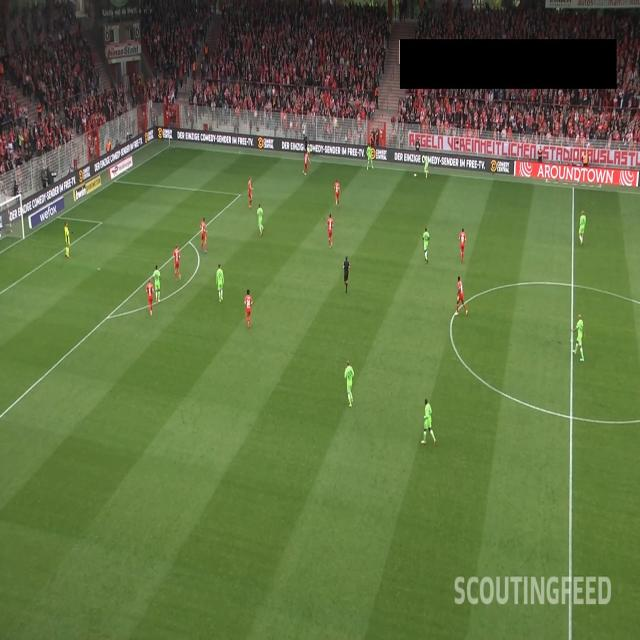ball: (413, 172, 417, 179)
